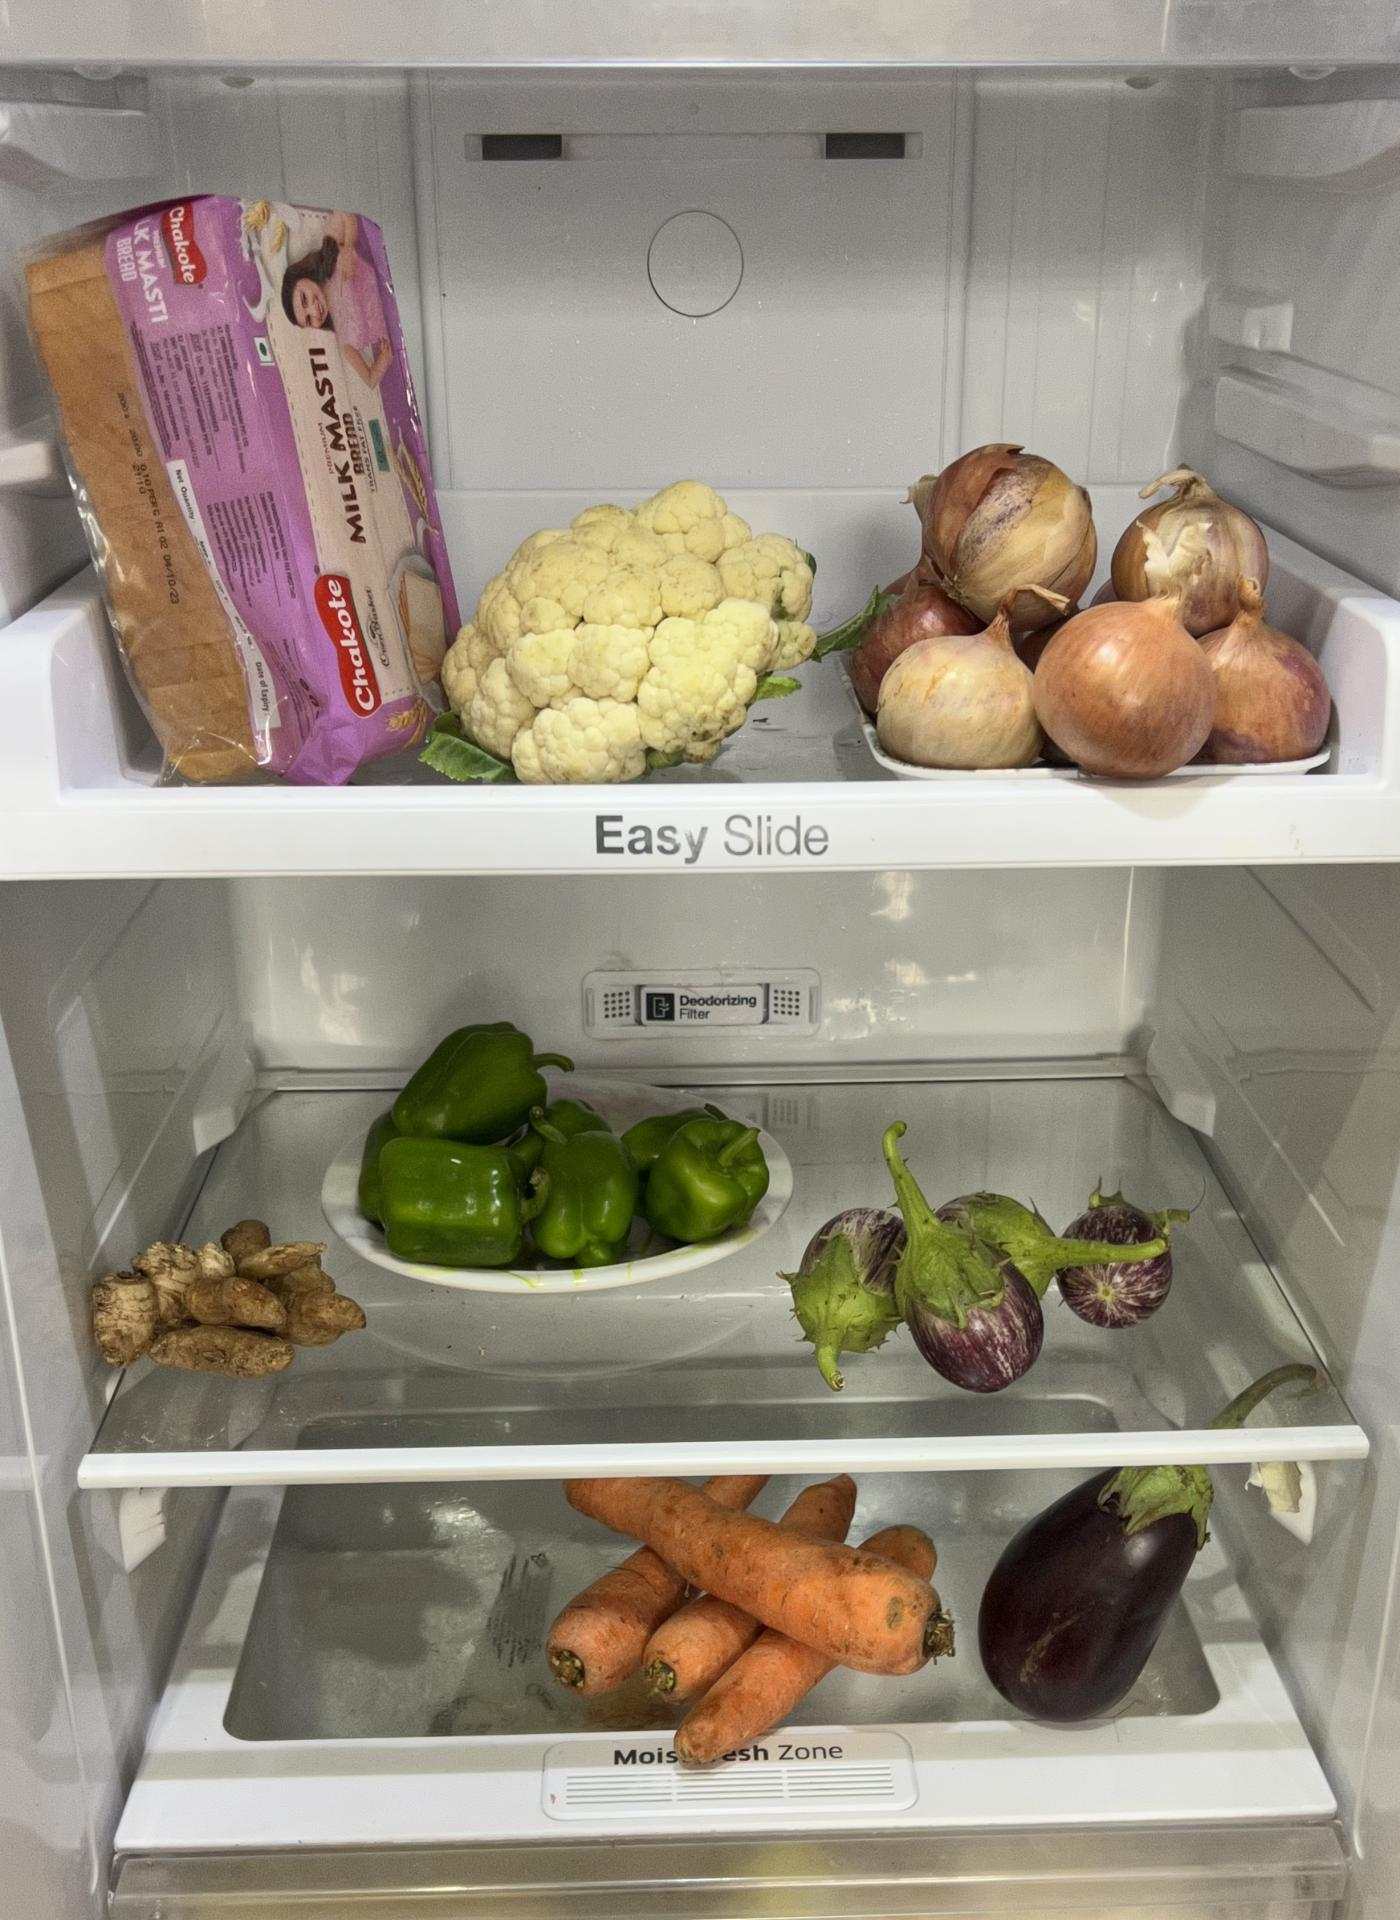bread: (18, 177, 447, 777)
capsicum: (337, 1014, 784, 1261)
carrots: (544, 1471, 947, 1755)
cauliflower: (456, 484, 804, 784)
ginger: (89, 1218, 379, 1376)
onion: (859, 437, 1334, 780)
